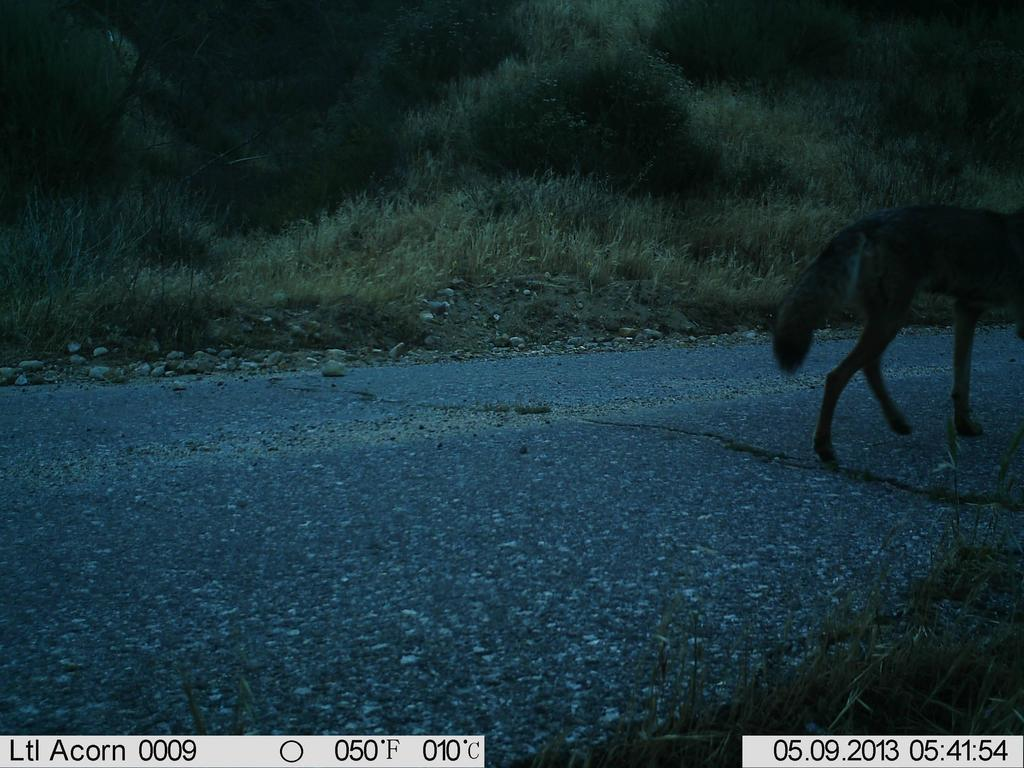coyote: (697, 177, 1022, 471)
